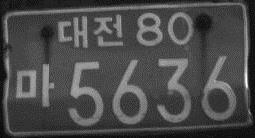0: (166, 10, 194, 47)
3: (153, 55, 192, 123)
5: (66, 60, 105, 127)
6: (198, 53, 239, 121), (111, 58, 148, 126)
8: (135, 10, 163, 46)
대전_O: (55, 12, 124, 49)
마: (14, 62, 56, 110)
